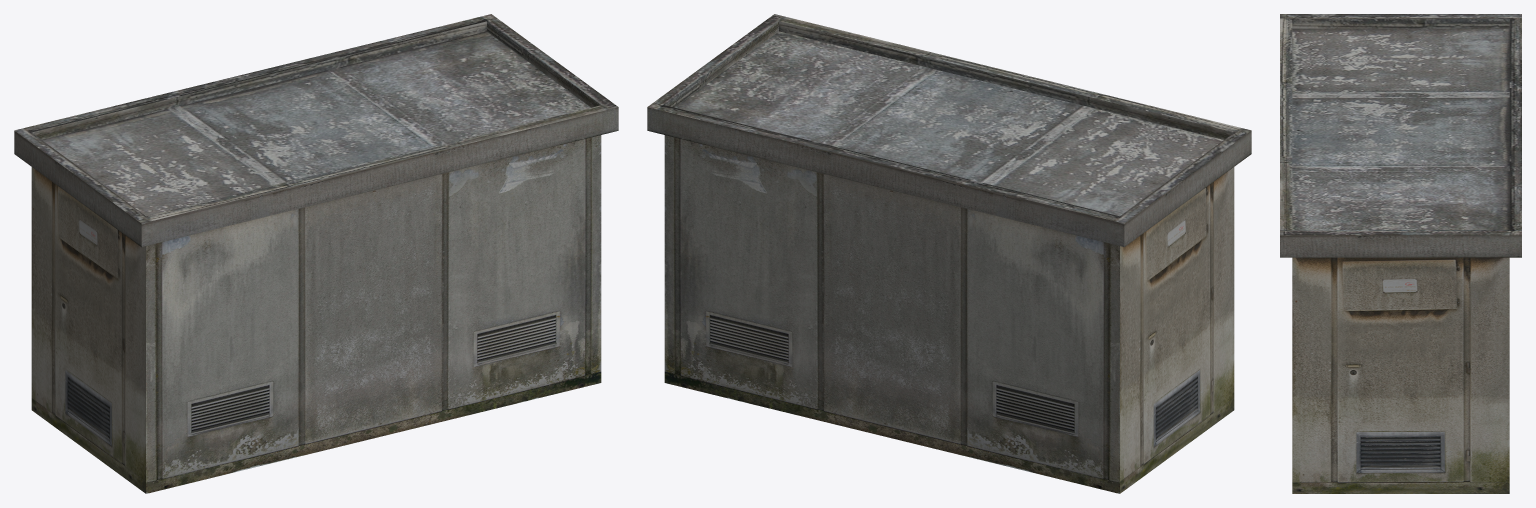
File: Electric_box_v3.FBX
3 renders of one model, left to right at view 1: azimuth 30°, elevation 25°; view 2: azimuth 150°, elevation 25°; view 3: azimuth 270°, elevation 25°, orthographic. The views are drawn at different scales.
Parts seen in each view (by area): view 1: Electric_box_v3; view 2: Electric_box_v3; view 3: Electric_box_v3.
Part boxes in pixels (x1=…): Electric_box_v3: x1=14, y1=14, x2=618, y2=493; Electric_box_v3: x1=647, y1=14, x2=1251, y2=493; Electric_box_v3: x1=1280, y1=14, x2=1521, y2=493.
Bounding box in the file's own units: 3.84 × 2.14 × 1.78.
